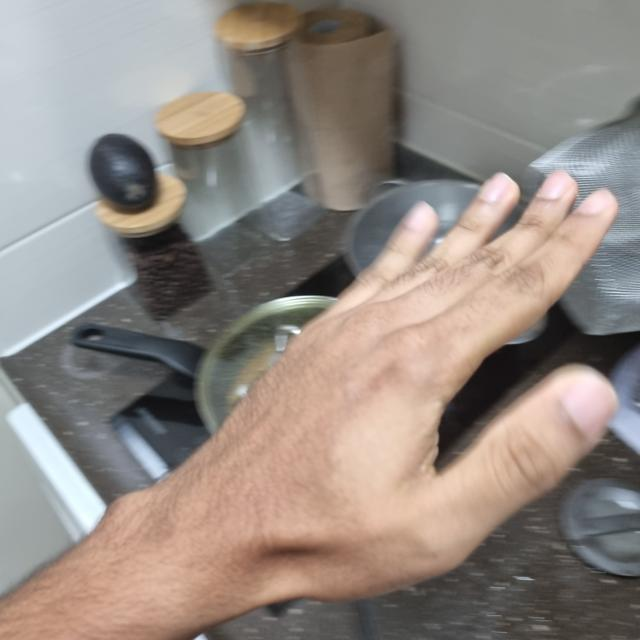Paper: (177, 174, 620, 599)
